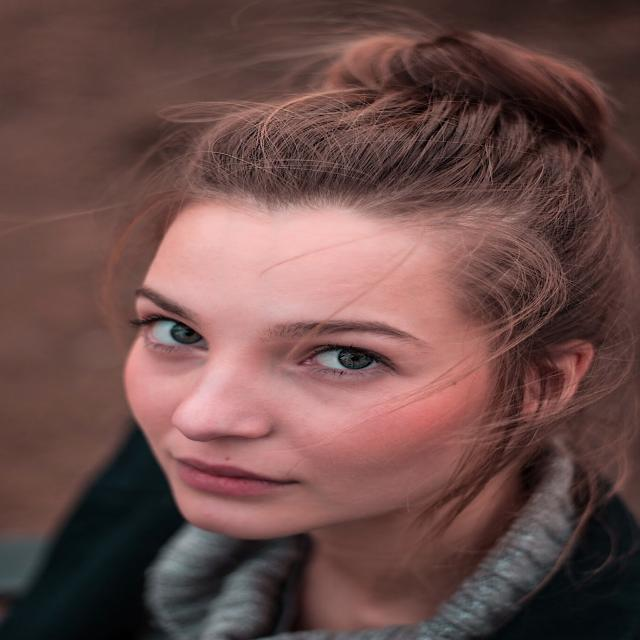adult: (119, 46, 640, 640)
